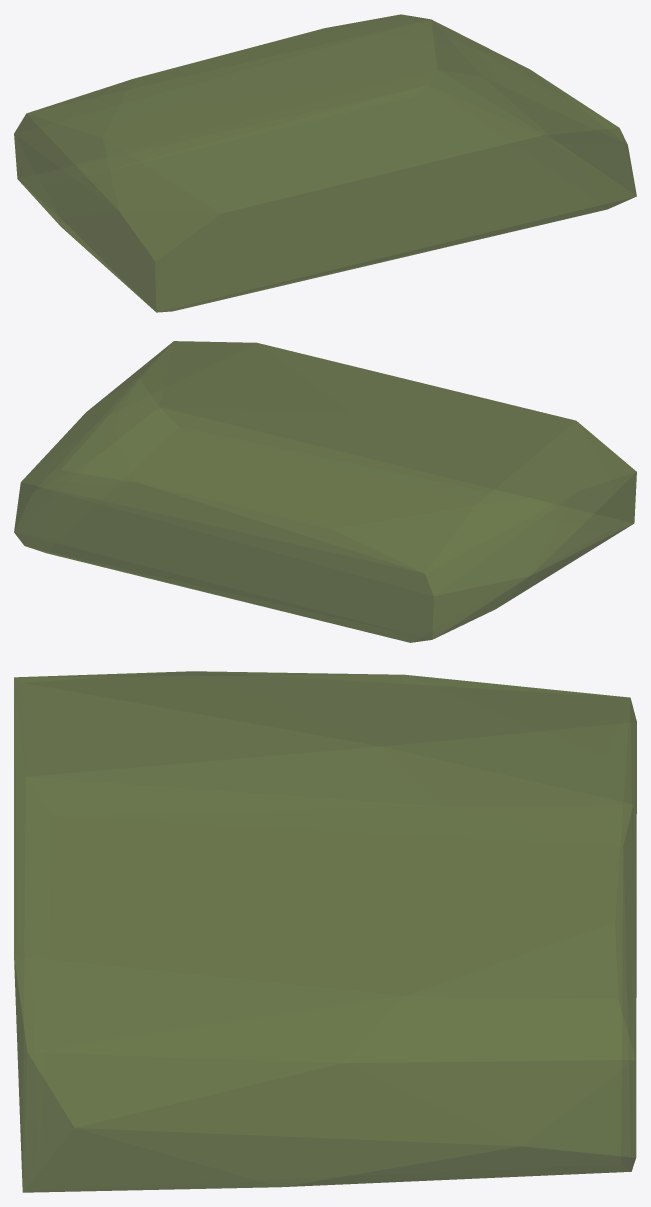
3 views of the same model, one above another, from view 1: azimuth 30°, elevation 25°; view 2: azimuth 150°, elevation 25°; view 3: azimuth 270°, elevation 25° (orthographic). The views are drawn at different scales.
Visible parts, largest first — view 1: Shape_IndexedFaceSet.020_Shape_IndexedFaceSet.9067; view 2: Shape_IndexedFaceSet.020_Shape_IndexedFaceSet.9067; view 3: Shape_IndexedFaceSet.020_Shape_IndexedFaceSet.9067.
Part boxes in pixels (left/top/right/bottom): Shape_IndexedFaceSet.020_Shape_IndexedFaceSet.9067: left=14, top=14, right=636, bottom=312; Shape_IndexedFaceSet.020_Shape_IndexedFaceSet.9067: left=14, top=341, right=636, bottom=642; Shape_IndexedFaceSet.020_Shape_IndexedFaceSet.9067: left=14, top=671, right=636, bottom=1192.
Bounding box in the file's own units: 0.4936 × 0.0941 × 0.3081.
